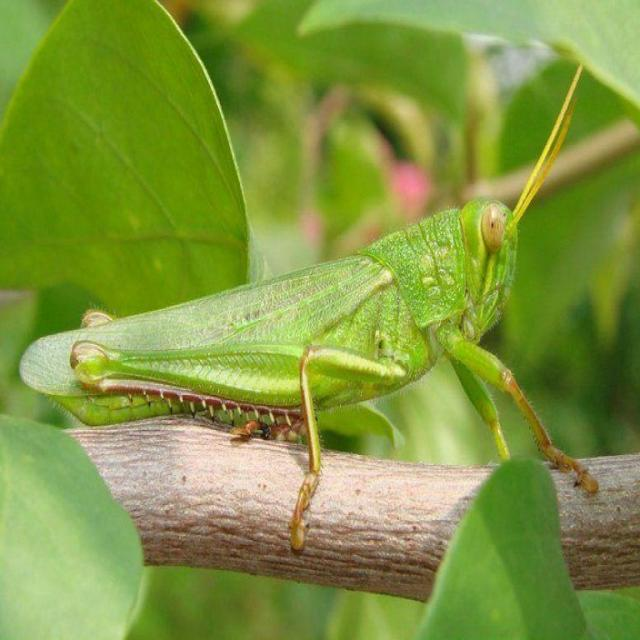ZhaMeng: (18, 116, 602, 512)
